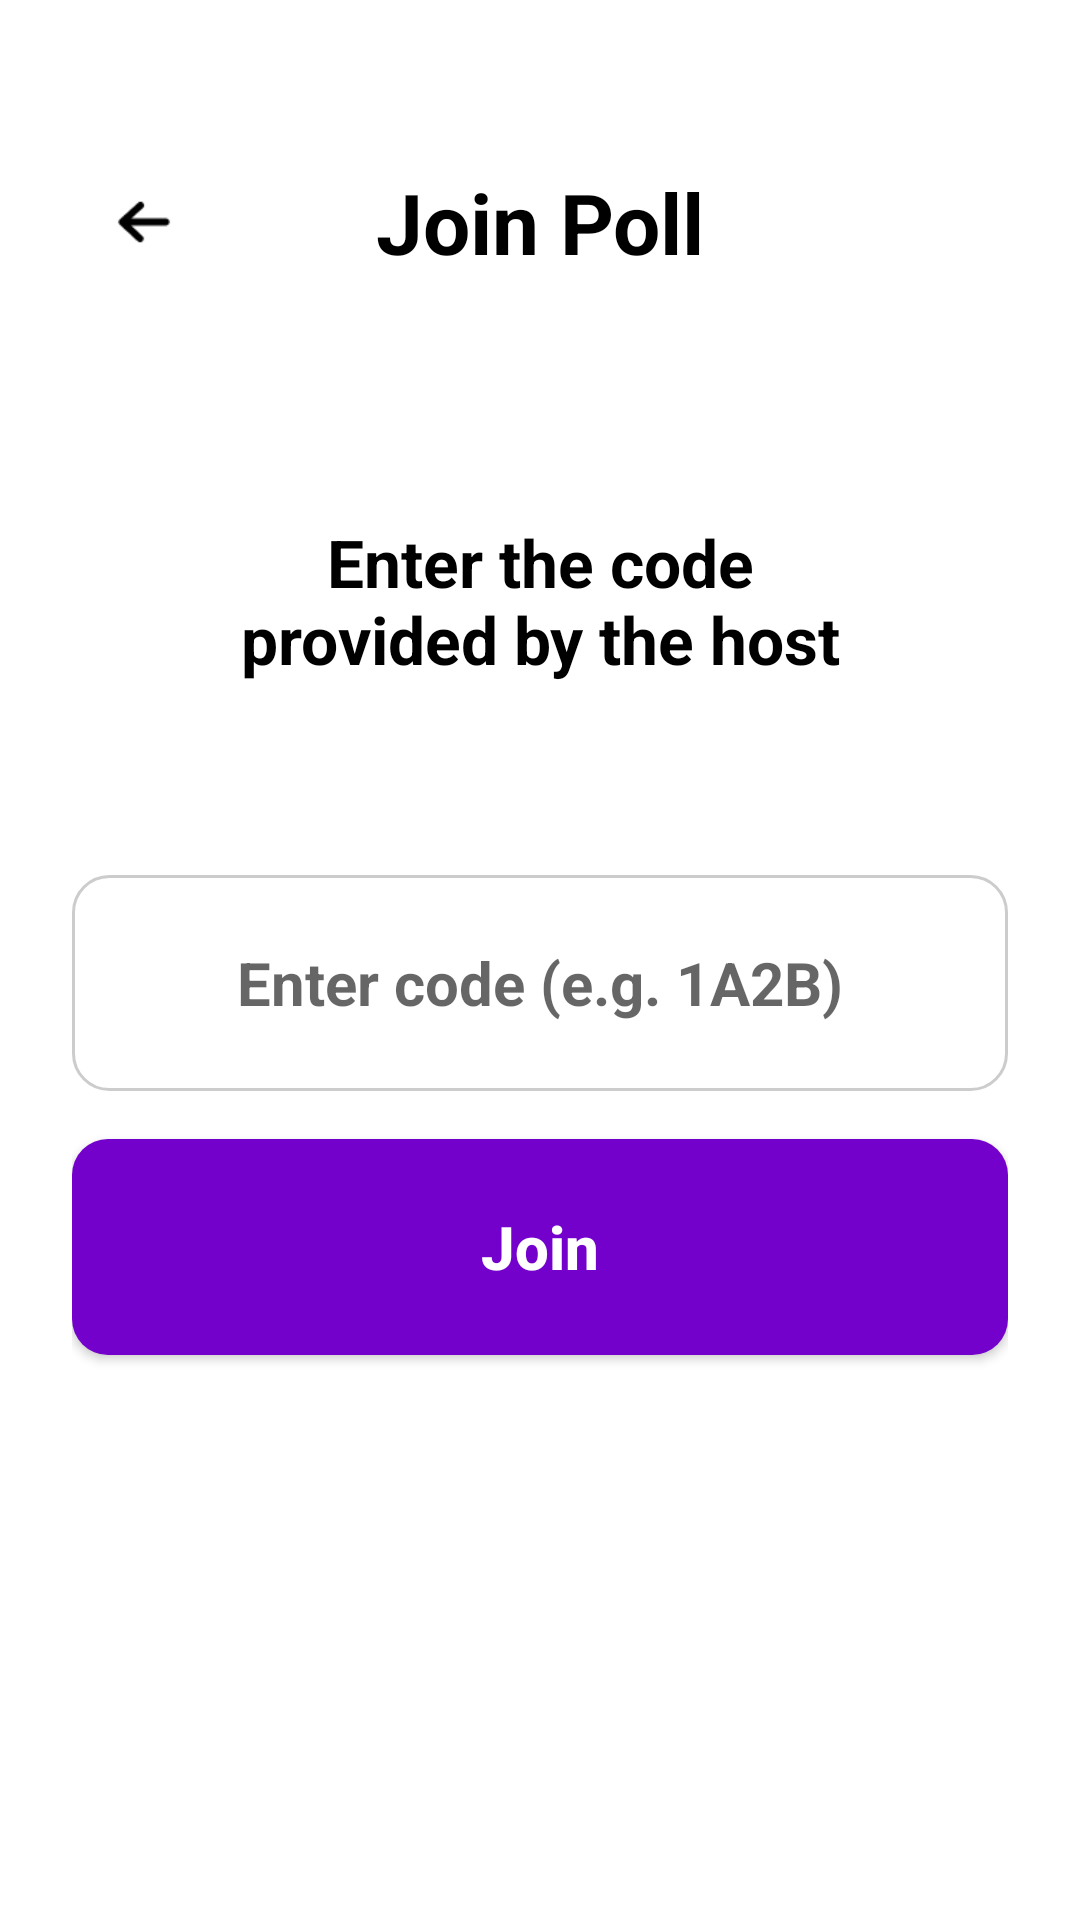

Where to tap for icons on this 1080w x 1920h app screen, as (x=x, y=y):
back arrow: (x=144, y=222)
